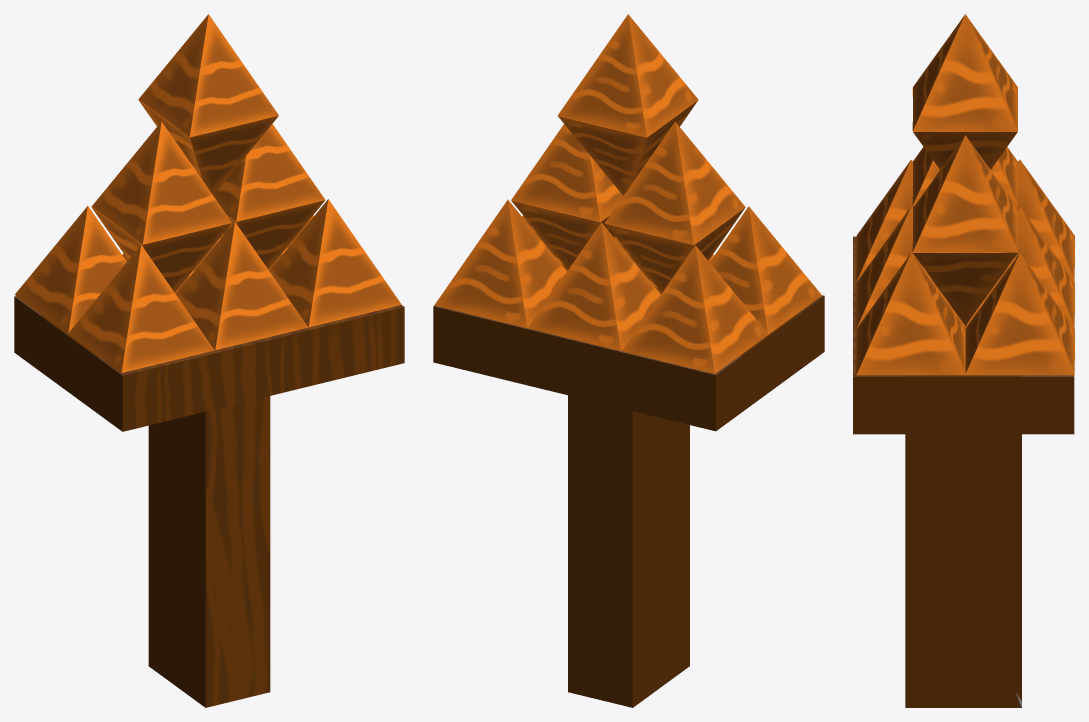
Rendered from Level1-4.fbx.
3 renders of one model, left to right at view 1: azimuth 30°, elevation 25°; view 2: azimuth 150°, elevation 25°; view 3: azimuth 270°, elevation 25°, orthographic.
Visible parts, largest first — view 1: Cube, Cube.003, Cube.001, Cube.002, Cube.010, Cube.012, Cube.006, Cube.009, Cube.011, Cube.008, Cube.007; view 2: Cube, Cube.006, Cube.004, Cube.005, Cube.010, Cube.012, Cube.003, Cube.009, Cube.011, Cube.008, Cube.007; view 3: Cube, Cube.002, Cube.005, Cube.009, Cube.012, Cube.007, Cube.004, Cube.001, Cube.003, Cube.006, Cube.011, Cube.010.
Boxes of the visible parts, box(x1,y1,x2,y2) form: Cube: box(14, 296, 404, 707); Cube.003: box(68, 245, 214, 372); Cube.001: box(176, 222, 308, 349); Cube.002: box(269, 199, 401, 327); Cube.010: box(91, 121, 231, 244); Cube.012: box(138, 14, 278, 136); Cube.006: box(15, 206, 126, 333); Cube.009: box(213, 124, 325, 221); Cube.011: box(138, 100, 278, 195); Cube.008: box(91, 207, 231, 292); Cube.007: box(221, 200, 325, 269); Cube: box(433, 295, 824, 707); Cube.006: box(622, 245, 768, 373); Cube.004: box(528, 222, 660, 350); Cube.005: box(434, 200, 566, 328); Cube.010: box(605, 121, 745, 244); Cube.012: box(558, 14, 698, 137); Cube.003: box(709, 206, 821, 334); Cube.009: box(511, 124, 622, 221); Cube.011: box(558, 100, 698, 195); Cube.008: box(605, 207, 745, 292); Cube.007: box(511, 200, 615, 269); Cube: box(853, 236, 1074, 707); Cube.002: box(856, 252, 965, 375); Cube.005: box(965, 253, 1074, 375); Cube.009: box(912, 135, 1017, 252); Cube.012: box(912, 14, 1017, 131); Cube.007: box(912, 208, 1017, 325); Cube.004: box(965, 206, 1074, 327); Cube.001: box(856, 206, 965, 328); Cube.003: box(856, 159, 913, 281); Cube.006: box(1017, 160, 1074, 281); Cube.011: box(912, 88, 1017, 169); Cube.010: box(912, 147, 1017, 205).
Size of the model in its own units: 809 by 1821 by 540.
